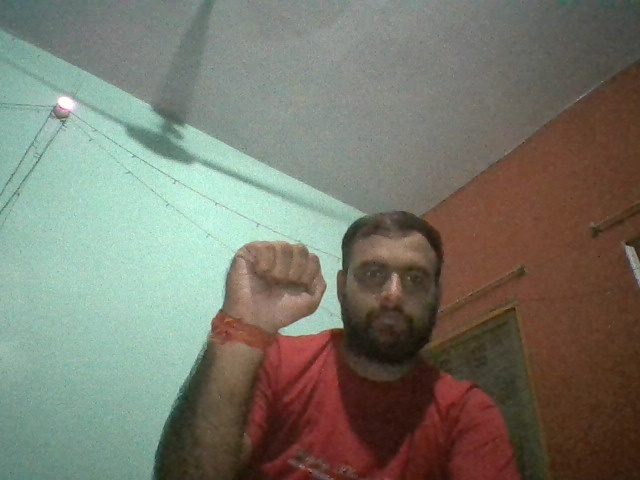goodbye: (224, 240, 327, 324)
